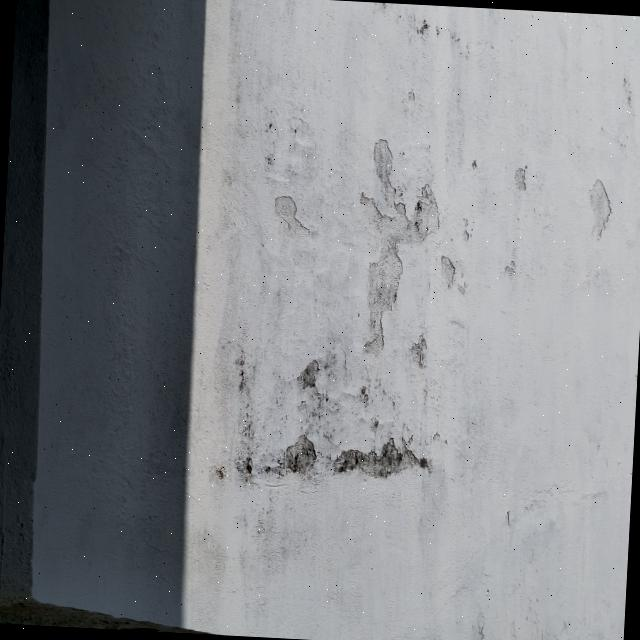Paint Peeling: (360, 140, 439, 353), (328, 439, 428, 480), (264, 437, 314, 474), (275, 196, 312, 237), (590, 180, 611, 237), (298, 360, 319, 389), (441, 256, 455, 288)
